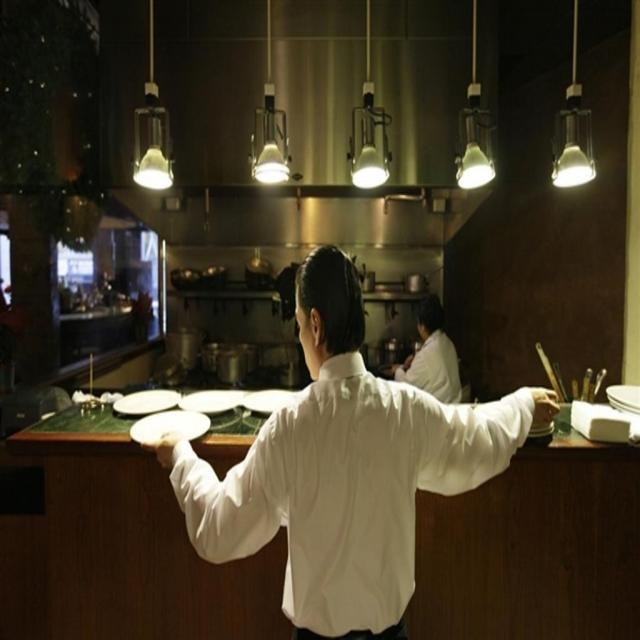nomask: (294, 281, 330, 375)
